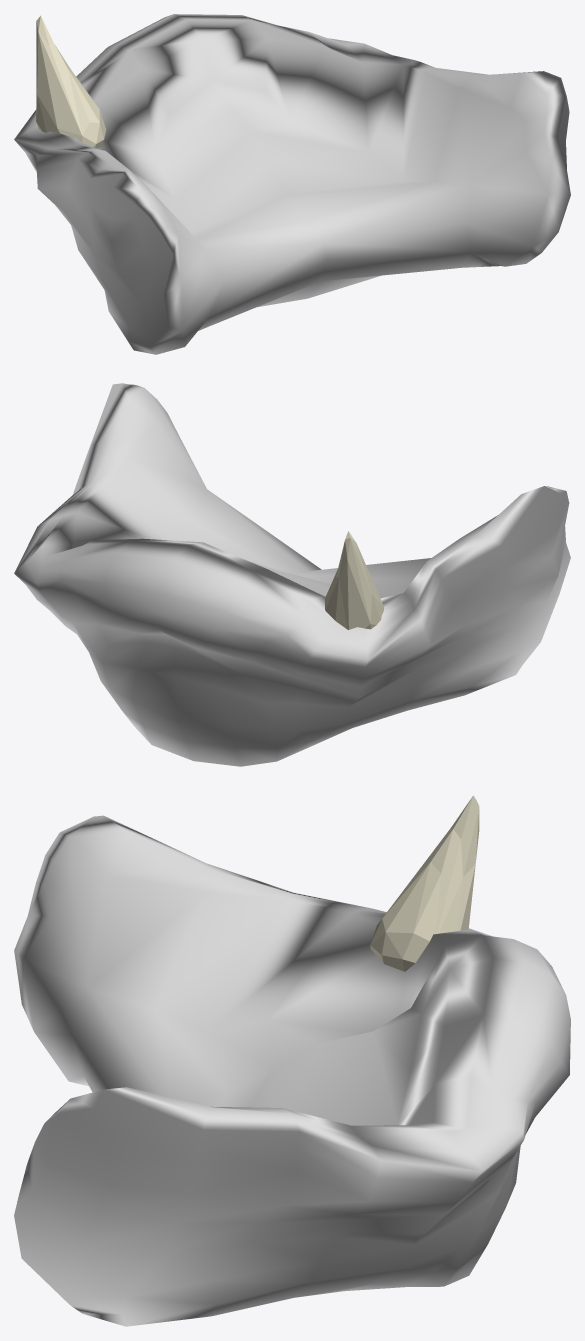
File: OrcJaw1.fbx
The picture shows the model from 3 angles, top to bottom: view 1: azimuth 30°, elevation 25°; view 2: azimuth 150°, elevation 25°; view 3: azimuth 270°, elevation 25°; orthographic projection. The views are drawn at different scales.
Visible parts, largest first — view 1: Jaw, teeth; view 2: Jaw, teeth; view 3: Jaw, teeth.
Boxes of the visible parts, x1=… form: Jaw: x1=14, y1=14, x2=570, y2=354; teeth: x1=36, y1=15, x2=106, y2=148; Jaw: x1=14, y1=383, x2=570, y2=766; teeth: x1=325, y1=531, x2=384, y2=629; Jaw: x1=14, y1=815, x2=570, y2=1326; teeth: x1=370, y1=795, x2=479, y2=971.
Size of the model in its own units: 0.1627 by 0.0939 by 0.1306.
